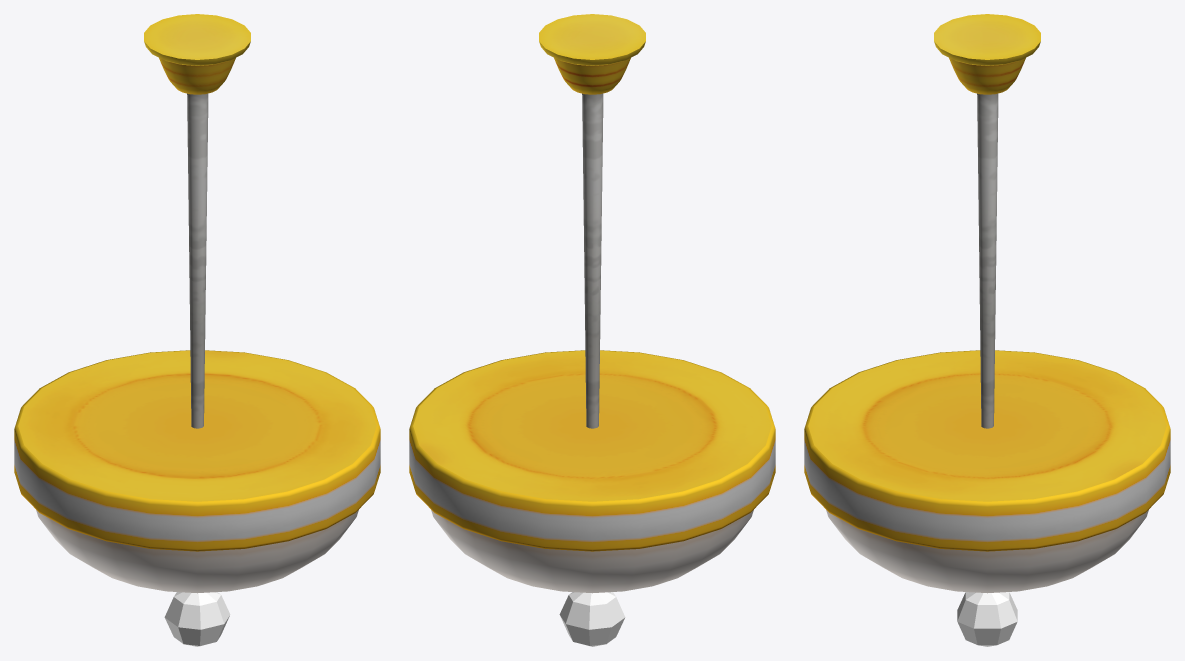
File: OfficeCeilingLight05.FBX
3 renders of one model, left to right at view 1: azimuth 30°, elevation 25°; view 2: azimuth 150°, elevation 25°; view 3: azimuth 270°, elevation 25°, orthographic.
Parts seen in each view (by area): view 1: OfficeCeilingLight05; view 2: OfficeCeilingLight05; view 3: OfficeCeilingLight05.
Boxes of the visible parts, x1=… form: OfficeCeilingLight05: x1=14, y1=14, x2=380, y2=646; OfficeCeilingLight05: x1=409, y1=14, x2=775, y2=646; OfficeCeilingLight05: x1=804, y1=14, x2=1170, y2=646.
Size of what is drawn, in the model's own units: 1.13 by 2.07 by 1.13.
